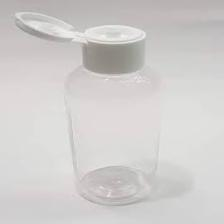plastic: (16, 12, 164, 205)
